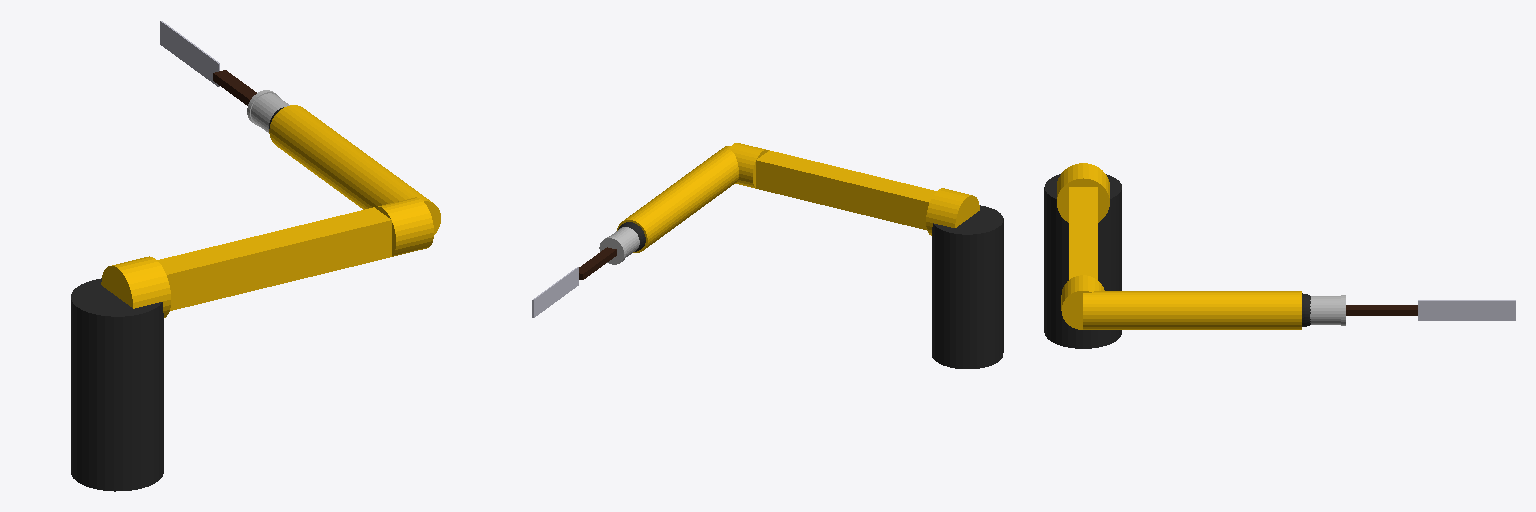
The robot description file, URDF, robot "lrmate200id14l":
<?xml version="1.0" ?>
<!--
  Simplified URDF for FANUC LR Mate 200iD/14L
  Dimensions based on DH parameters (mm converted to m for URDF):
    d1=330mm, a1=75mm, a2=450mm, a3=75mm, d4=450mm, d6=80mm
  All lengths in meters for URDF convention.
-->
<robot name="lrmate200id14l">

  <!-- Materials -->
  <material name="fanuc_yellow">
    <color rgba="0.96 0.75 0.05 1.0"/>
  </material>
  <material name="dark_grey">
    <color rgba="0.2 0.2 0.2 1.0"/>
  </material>
  <material name="silver">
    <color rgba="0.75 0.75 0.75 1.0"/>
  </material>
  <material name="knife_steel">
    <color rgba="0.8 0.8 0.85 1.0"/>
  </material>
  <material name="knife_handle">
    <color rgba="0.25 0.15 0.1 1.0"/>
  </material>

  <!-- Base link (world / floor mount) -->
  <link name="base_link">
    <visual>
      <origin xyz="0 0 0.165" rpy="0 0 0"/>
      <geometry>
        <cylinder radius="0.08" length="0.33"/>
      </geometry>
      <material name="dark_grey"/>
    </visual>
    <collision>
      <origin xyz="0 0 0.165" rpy="0 0 0"/>
      <geometry>
        <cylinder radius="0.08" length="0.33"/>
      </geometry>
    </collision>
    <inertial>
      <mass value="20.0"/>
      <inertia ixx="0.1" ixy="0" ixz="0" iyy="0.1" iyz="0" izz="0.05"/>
    </inertial>
  </link>

  <!-- Joint 1: Rotation around Z axis -->
  <joint name="joint_1" type="revolute">
    <parent link="base_link"/>
    <child link="link_1"/>
    <origin xyz="0 0 0.330" rpy="0 0 0"/>
    <axis xyz="0 0 1"/>
    <limit lower="-2.9671" upper="2.9671" effort="200" velocity="3.14"/>
  </joint>

  <!-- Link 1 (shoulder) -->
  <link name="link_1">
    <visual>
      <origin xyz="0.0375 0 0" rpy="0 1.5708 0"/>
      <geometry>
        <cylinder radius="0.055" length="0.075"/>
      </geometry>
      <material name="fanuc_yellow"/>
    </visual>
    <collision>
      <origin xyz="0.0375 0 0" rpy="0 1.5708 0"/>
      <geometry>
        <cylinder radius="0.055" length="0.075"/>
      </geometry>
    </collision>
    <inertial>
      <mass value="8.0"/>
      <inertia ixx="0.05" ixy="0" ixz="0" iyy="0.05" iyz="0" izz="0.02"/>
    </inertial>
  </link>

  <!-- Joint 2: Rotation around Y axis (with -90 deg DH offset) -->
  <joint name="joint_2" type="revolute">
    <parent link="link_1"/>
    <child link="link_2"/>
    <origin xyz="0.075 0 0" rpy="-1.5708 0 0"/>
    <axis xyz="0 0 1"/>
    <limit lower="-1.4835" upper="2.5307" effort="200" velocity="3.14"/>
  </joint>

  <!-- Link 2 (upper arm) -->
  <link name="link_2">
    <visual>
      <origin xyz="0.225 0 0" rpy="0 1.5708 0"/>
      <geometry>
        <box size="0.06 0.07 0.45"/>
      </geometry>
      <material name="fanuc_yellow"/>
    </visual>
    <collision>
      <origin xyz="0.225 0 0" rpy="0 1.5708 0"/>
      <geometry>
        <box size="0.06 0.07 0.45"/>
      </geometry>
    </collision>
    <inertial>
      <mass value="6.0"/>
      <inertia ixx="0.03" ixy="0" ixz="0" iyy="0.1" iyz="0" izz="0.1"/>
    </inertial>
  </link>

  <!-- Joint 3 -->
  <joint name="joint_3" type="revolute">
    <parent link="link_2"/>
    <child link="link_3"/>
    <origin xyz="0.450 0 0" rpy="-1.5708 0 0"/>
    <axis xyz="0 0 1"/>
    <limit lower="-3.0543" upper="4.4506" effort="100" velocity="3.14"/>
  </joint>

  <!-- Link 3 (forearm) -->
  <link name="link_3">
    <visual>
      <origin xyz="0.0375 0 0" rpy="0 1.5708 0"/>
      <geometry>
        <cylinder radius="0.045" length="0.075"/>
      </geometry>
      <material name="fanuc_yellow"/>
    </visual>
    <collision>
      <origin xyz="0.0375 0 0" rpy="0 1.5708 0"/>
      <geometry>
        <cylinder radius="0.045" length="0.075"/>
      </geometry>
    </collision>
    <inertial>
      <mass value="4.0"/>
      <inertia ixx="0.02" ixy="0" ixz="0" iyy="0.02" iyz="0" izz="0.01"/>
    </inertial>
  </link>

  <!-- Joint 4: Wrist roll -->
  <joint name="joint_4" type="revolute">
    <parent link="link_3"/>
    <child link="link_4"/>
    <origin xyz="0.075 0 0" rpy="1.5708 0 0"/>
    <axis xyz="0 0 1"/>
    <limit lower="-3.3161" upper="3.3161" effort="50" velocity="6.28"/>
  </joint>

  <!-- Link 4 (wrist body) -->
  <link name="link_4">
    <visual>
      <origin xyz="0 0 0.225" rpy="0 0 0"/>
      <geometry>
        <cylinder radius="0.04" length="0.45"/>
      </geometry>
      <material name="fanuc_yellow"/>
    </visual>
    <collision>
      <origin xyz="0 0 0.225" rpy="0 0 0"/>
      <geometry>
        <cylinder radius="0.04" length="0.45"/>
      </geometry>
    </collision>
    <inertial>
      <mass value="2.0"/>
      <inertia ixx="0.01" ixy="0" ixz="0" iyy="0.01" iyz="0" izz="0.005"/>
    </inertial>
  </link>

  <!-- Joint 5: Wrist bend -->
  <joint name="joint_5" type="revolute">
    <parent link="link_4"/>
    <child link="link_5"/>
    <origin xyz="0 0 0.450" rpy="-1.5708 0 0"/>
    <axis xyz="0 0 1"/>
    <limit lower="-2.3562" upper="2.3562" effort="50" velocity="6.28"/>
  </joint>

  <!-- Link 5 (wrist pitch) -->
  <link name="link_5">
    <visual>
      <origin xyz="0 0 0" rpy="0 0 0"/>
      <geometry>
        <sphere radius="0.035"/>
      </geometry>
      <material name="dark_grey"/>
    </visual>
    <collision>
      <origin xyz="0 0 0" rpy="0 0 0"/>
      <geometry>
        <sphere radius="0.035"/>
      </geometry>
    </collision>
    <inertial>
      <mass value="1.0"/>
      <inertia ixx="0.005" ixy="0" ixz="0" iyy="0.005" iyz="0" izz="0.005"/>
    </inertial>
  </link>

  <!-- Joint 6: Tool rotation -->
  <joint name="joint_6" type="revolute">
    <parent link="link_5"/>
    <child link="link_6"/>
    <origin xyz="0 0 0" rpy="1.5708 0 0"/>
    <axis xyz="0 0 1"/>
    <limit lower="-6.2832" upper="6.2832" effort="30" velocity="10.0"/>
  </joint>

  <!-- Link 6 (flange) -->
  <link name="link_6">
    <visual>
      <origin xyz="0 0 0.04" rpy="0 0 0"/>
      <geometry>
        <cylinder radius="0.03" length="0.08"/>
      </geometry>
      <material name="silver"/>
    </visual>
    <collision>
      <origin xyz="0 0 0.04" rpy="0 0 0"/>
      <geometry>
        <cylinder radius="0.03" length="0.08"/>
      </geometry>
    </collision>
    <inertial>
      <mass value="0.5"/>
      <inertia ixx="0.001" ixy="0" ixz="0" iyy="0.001" iyz="0" izz="0.001"/>
    </inertial>
  </link>

  <!-- Tool flange joint -->
  <joint name="joint_flange" type="fixed">
    <parent link="link_6"/>
    <child link="tool_flange"/>
    <origin xyz="0 0 0.080" rpy="0 0 0"/>
  </joint>

  <!-- Tool flange link -->
  <link name="tool_flange">
    <visual>
      <origin xyz="0 0 0.005" rpy="0 0 0"/>
      <geometry>
        <cylinder radius="0.032" length="0.01"/>
      </geometry>
      <material name="silver"/>
    </visual>
    <inertial>
      <mass value="0.1"/>
      <inertia ixx="0.0001" ixy="0" ixz="0" iyy="0.0001" iyz="0" izz="0.0001"/>
    </inertial>
  </link>

  <!-- Knife mounting bracket -->
  <joint name="joint_knife_mount" type="fixed">
    <parent link="tool_flange"/>
    <child link="knife_handle_link"/>
    <origin xyz="0 0 0.01" rpy="0 0 0"/>
  </joint>

  <!-- Knife handle -->
  <link name="knife_handle_link">
    <visual>
      <origin xyz="0 0 0.075" rpy="0 0 0"/>
      <geometry>
        <box size="0.025 0.015 0.150"/>
      </geometry>
      <material name="knife_handle"/>
    </visual>
    <collision>
      <origin xyz="0 0 0.075" rpy="0 0 0"/>
      <geometry>
        <box size="0.025 0.015 0.150"/>
      </geometry>
    </collision>
    <inertial>
      <mass value="0.15"/>
      <inertia ixx="0.001" ixy="0" ixz="0" iyy="0.001" iyz="0" izz="0.0001"/>
    </inertial>
  </link>

  <!-- Knife blade joint -->
  <joint name="joint_knife_blade" type="fixed">
    <parent link="knife_handle_link"/>
    <child link="knife_blade_link"/>
    <origin xyz="0 0 0.150" rpy="0 0 0"/>
  </joint>

  <!-- Knife blade (200mm long, thin rectangular) -->
  <link name="knife_blade_link">
    <visual>
      <origin xyz="0 0 0.1" rpy="0 0 0"/>
      <geometry>
        <!-- blade: 3mm thick, 45mm wide (spine to edge), 200mm long -->
        <box size="0.003 0.045 0.200"/>
      </geometry>
      <material name="knife_steel"/>
    </visual>
    <collision>
      <origin xyz="0 0 0.1" rpy="0 0 0"/>
      <geometry>
        <box size="0.003 0.045 0.200"/>
      </geometry>
    </collision>
    <inertial>
      <mass value="0.2"/>
      <inertia ixx="0.001" ixy="0" ixz="0" iyy="0.001" iyz="0" izz="0.0001"/>
    </inertial>
  </link>

  <!-- Knife tip (TCP) -->
  <joint name="joint_knife_tip" type="fixed">
    <parent link="knife_blade_link"/>
    <child link="knife_tip"/>
    <origin xyz="0 0 0.200" rpy="0 0 0"/>
  </joint>

  <link name="knife_tip">
    <inertial>
      <mass value="0.001"/>
      <inertia ixx="0.000001" ixy="0" ixz="0" iyy="0.000001" iyz="0" izz="0.000001"/>
    </inertial>
  </link>

</robot>

--- Facts derived from the render (not from the file) ---
3 views of the same robot in one strip: view 1: azimuth 30°, elevation 25°; view 2: azimuth 150°, elevation 25°; view 3: azimuth 270°, elevation 25° (orthographic).
Model lrmate200id14l with 11 links and 10 joints (6 revolute, 4 fixed), rooted at base_link, posed every joint at zero.
Visible links, largest first — view 1: base_link, link_2, link_4, link_1, link_3, knife_blade_link, link_6, knife_handle_link; view 2: base_link, link_2, link_4, link_1, knife_blade_link, link_3, knife_handle_link; view 3: link_4, base_link, link_2, knife_blade_link, link_1, link_3, link_6, knife_handle_link.
Link boxes in pixels (bbox=[...]): base_link: bbox=[71, 278, 163, 491]; link_2: bbox=[157, 207, 391, 310]; link_4: bbox=[269, 105, 440, 234]; link_1: bbox=[101, 256, 170, 317]; link_3: bbox=[375, 197, 433, 256]; knife_blade_link: bbox=[160, 21, 219, 86]; link_6: bbox=[251, 93, 289, 132]; knife_handle_link: bbox=[213, 70, 256, 105]; base_link: bbox=[932, 205, 1003, 368]; link_2: bbox=[756, 150, 936, 229]; link_4: bbox=[617, 146, 738, 252]; link_1: bbox=[926, 188, 979, 235]; knife_blade_link: bbox=[532, 267, 578, 317]; link_3: bbox=[729, 143, 768, 188]; knife_handle_link: bbox=[579, 247, 616, 279]; link_4: bbox=[1083, 291, 1301, 329]; base_link: bbox=[1044, 174, 1121, 348]; link_2: bbox=[1069, 187, 1097, 279]; knife_blade_link: bbox=[1418, 300, 1515, 320]; link_1: bbox=[1057, 163, 1109, 222]; link_3: bbox=[1061, 275, 1104, 329]; link_6: bbox=[1310, 296, 1340, 324]; knife_handle_link: bbox=[1346, 305, 1417, 315].
Size in the robot's own frame: 0.72 by 0.97 by 0.385 metres.
Geometry: primitives only (box / cylinder / sphere), no mesh files.
